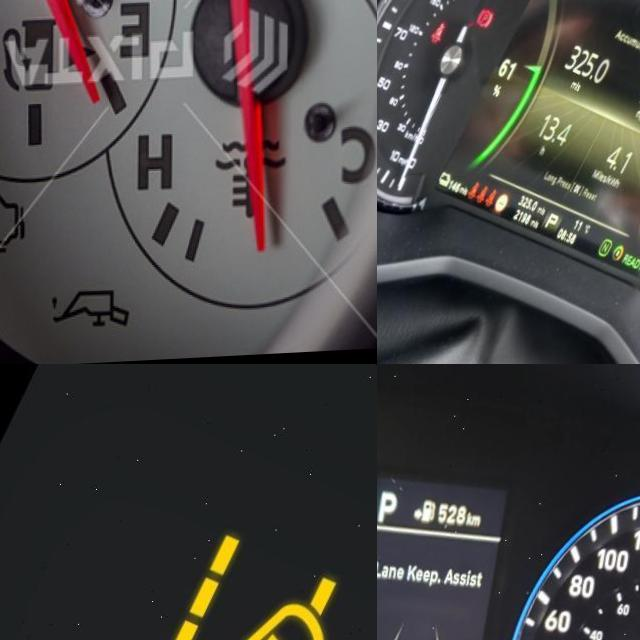Seat Belt: (429, 24, 447, 45), (468, 183, 479, 202), (487, 192, 498, 210), (477, 187, 488, 205)
